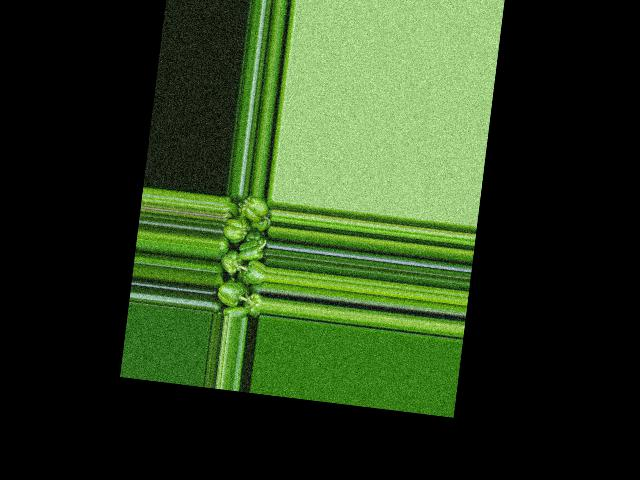bell_pepper: (210, 192, 272, 318)
